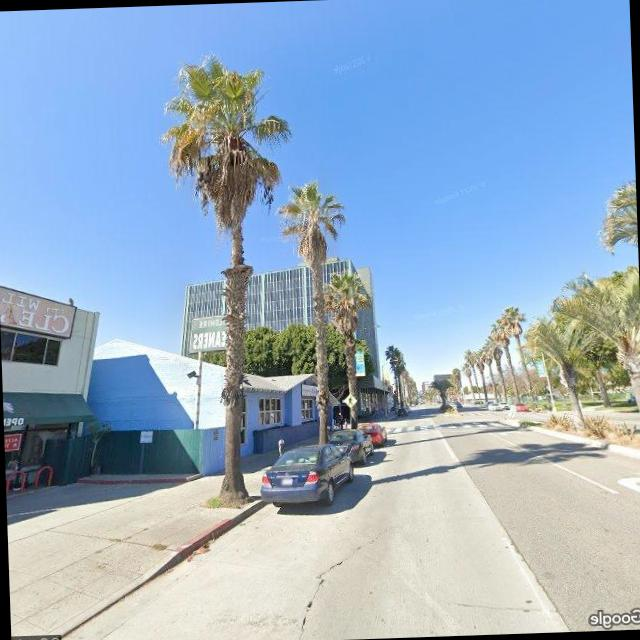pothole: (292, 546, 361, 640)
